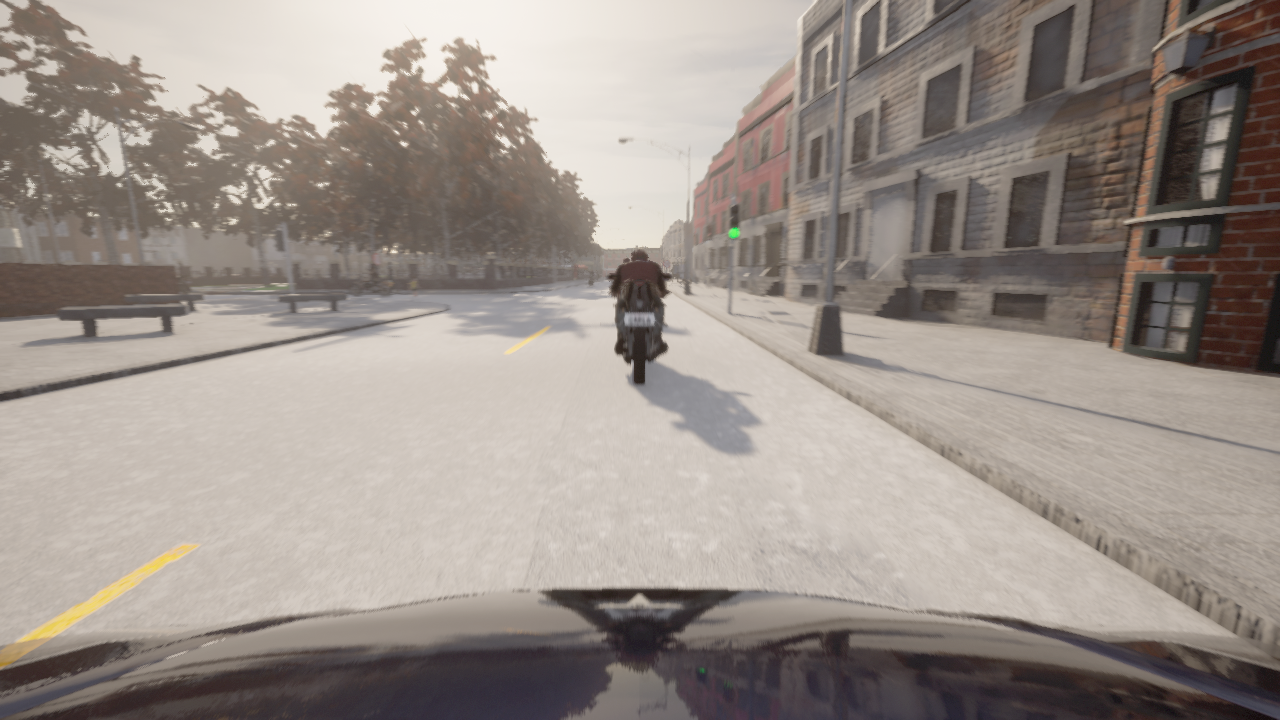cyclist: (0, 588, 1279, 719), (607, 274, 671, 385), (349, 272, 392, 295), (178, 274, 192, 293), (589, 273, 595, 286)
pedestrian: (387, 262, 397, 289), (409, 277, 419, 300)
